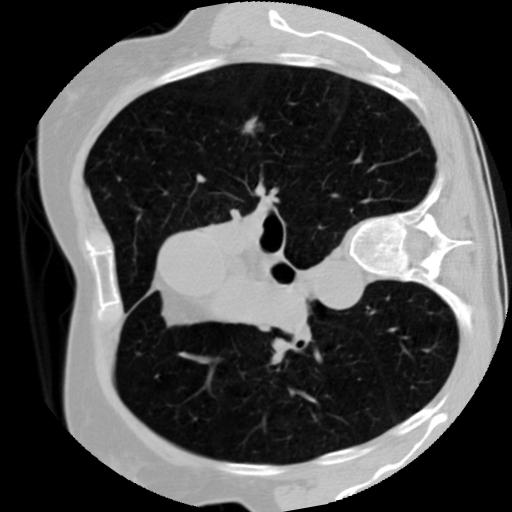nodule: (239, 113, 263, 137)
